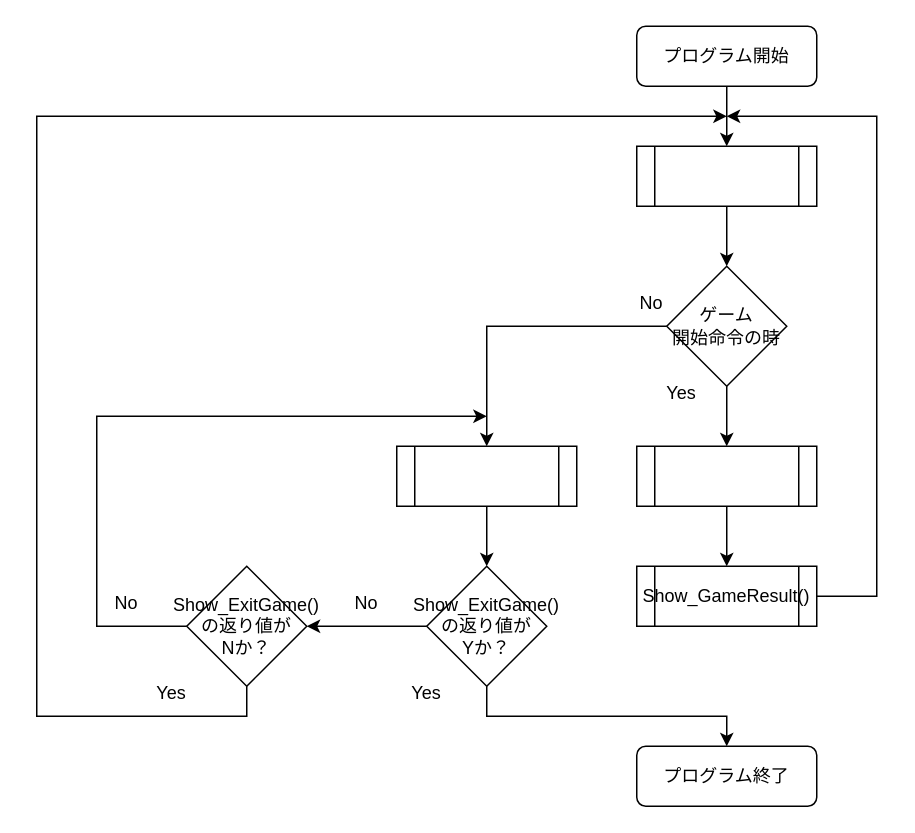
Some shapes in this 915 by 833 pixel diagram are drawn without their labels. Each missing label, with the centre of its shape:
"Play_Tic_Tac_Toe()" belongs at (726,475).
"Show_ExitGame()" belongs at (486,475).
"Show_GameTitle()" belongs at (726,175).
